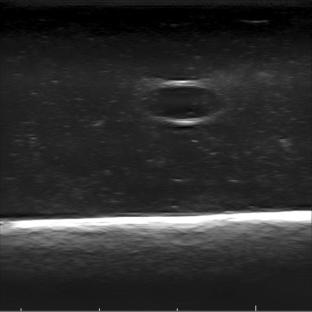vessel: (147, 79, 224, 125)
